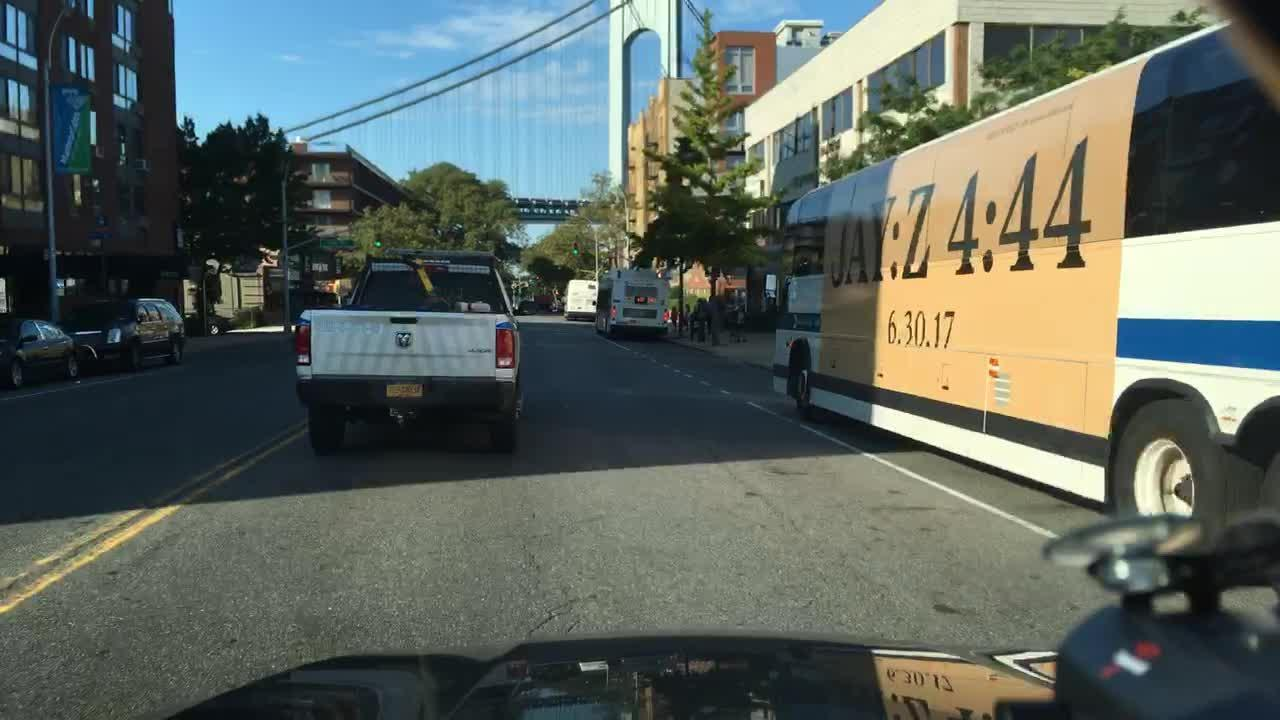ram: (390, 325, 423, 359)
